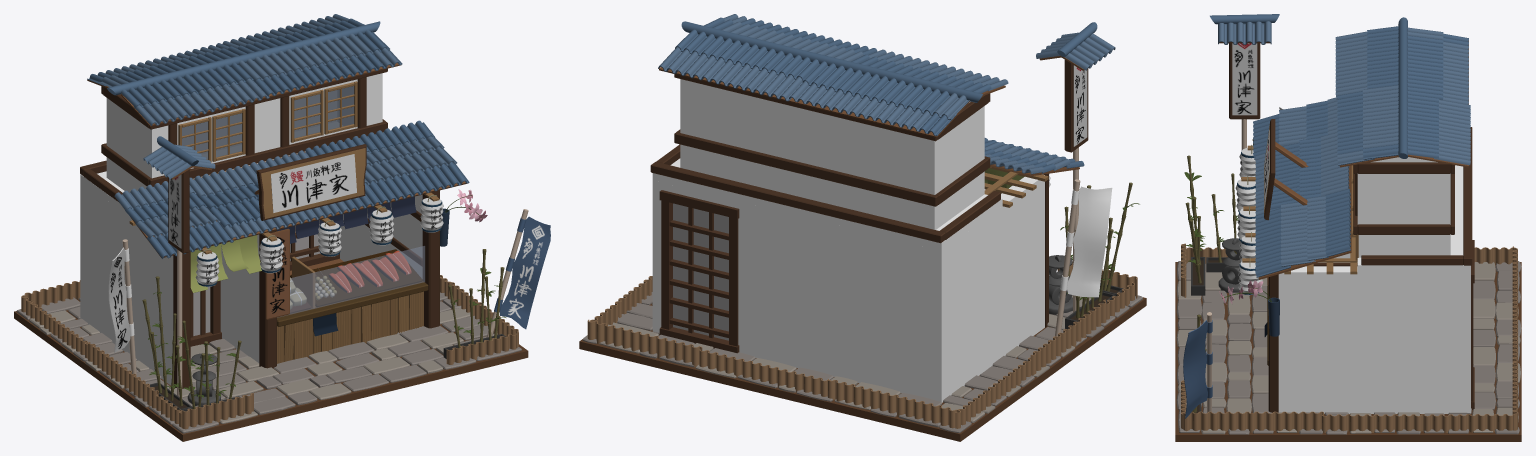
File: japanese_restaurant-transformed.glb
3 views of the same model, side by side, from view 1: azimuth 30°, elevation 25°; view 2: azimuth 150°, elevation 25°; view 3: azimuth 270°, elevation 25° (orthographic). The views are drawn at different scales.
Visible parts, largest first — view 1: pCube52, pCube4, pCube48, pCube1, polySurface53, pCube112, pCube83, pCube154, pCube42, polySurface498, polySurface647, polySurface649 (+57 smaller); view 2: pCube52, pCube4, pCube83, pCube1, pCube62, polySurface535, polySurface260, polySurface653, polySurface655, pCube53, polySurface654, polySurface652 (+25 smaller); view 3: pCube52, pCube4, pCube1, pCube83, polySurface241, polySurface242, pCube62, polySurface653, polySurface647, polySurface655, polySurface649, polySurface654 (+62 smaller).
Part boxes in pixels (x1,y1,x2,y2): pCube52: (80,181,422,385); pCube4: (106,73,382,192); pCube48: (277,246,424,317); pCube1: (14,299,528,441); polySurface53: (277,291,423,363); pCube112: (173,190,439,388); pCube83: (101,68,387,186); pCube154: (270,154,356,212); pCube42: (220,234,259,362); polySurface498: (500,216,550,329); polySurface647: (238,33,373,81); polySurface649: (133,78,269,125); pCube52: (652,174,1044,402); pCube4: (680,79,984,229); pCube83: (674,74,990,206); pCube1: (579,297,1146,441); pCube62: (650,144,1000,243); polySurface535: (673,203,728,340); polySurface260: (1067,186,1112,297); polySurface653: (802,61,949,115); polySurface655: (658,47,802,101); pCube53: (652,158,1002,250); polySurface654: (675,29,819,80); polySurface652: (789,81,931,131); pCube52: (1278,266,1470,413); pCube4: (1357,157,1450,257); pCube1: (1175,262,1521,441); pCube83: (1353,162,1454,234); polySurface241: (1183,411,1323,432); polySurface242: (1321,414,1462,432); pCube62: (1361,127,1472,265); polySurface653: (1407,35,1443,99); polySurface647: (1363,85,1398,148); polySurface655: (1434,100,1470,165); polySurface649: (1335,31,1367,99); polySurface654: (1407,94,1439,158).
Size of the model in its own units: 19.71 by 12.58 by 14.6.
Materials: 48 (6 with a texture image).
